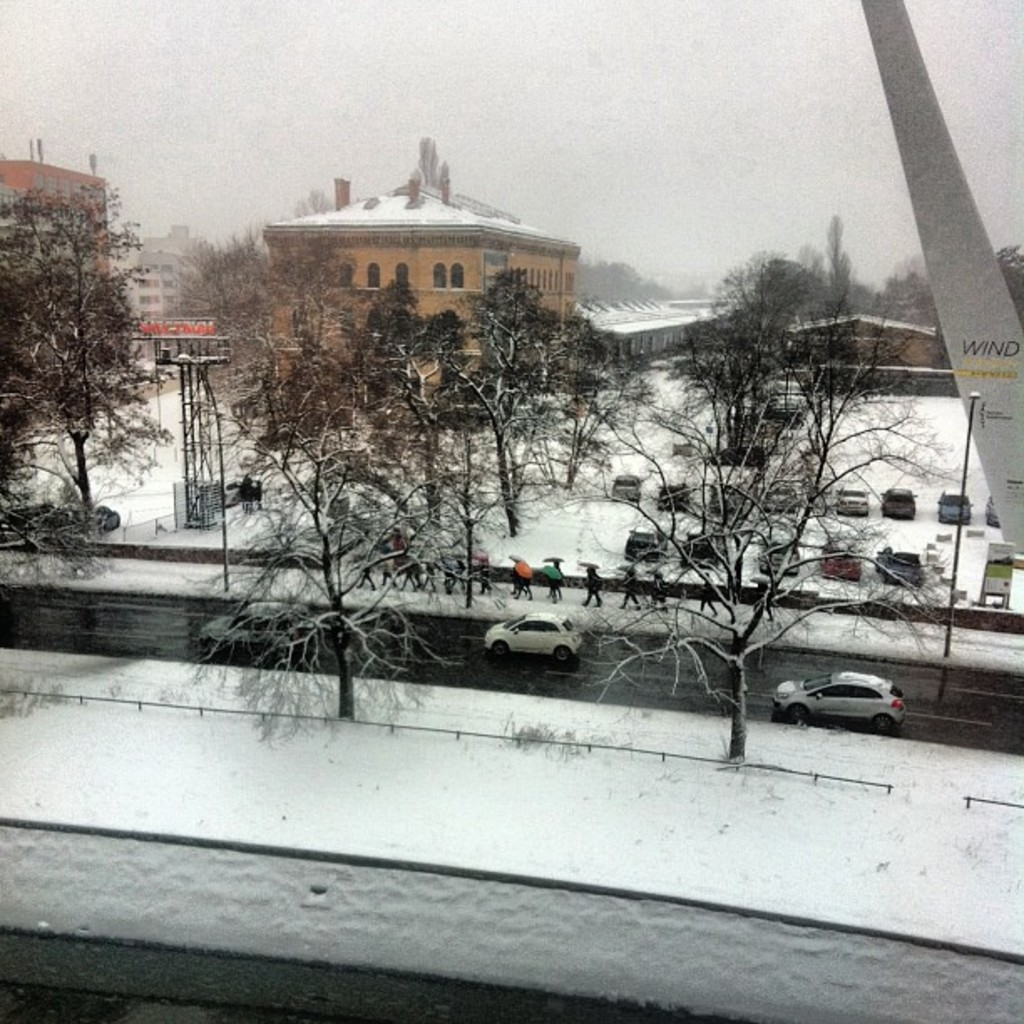Car: (773, 670, 931, 749), (185, 590, 336, 662), (480, 609, 588, 667)
